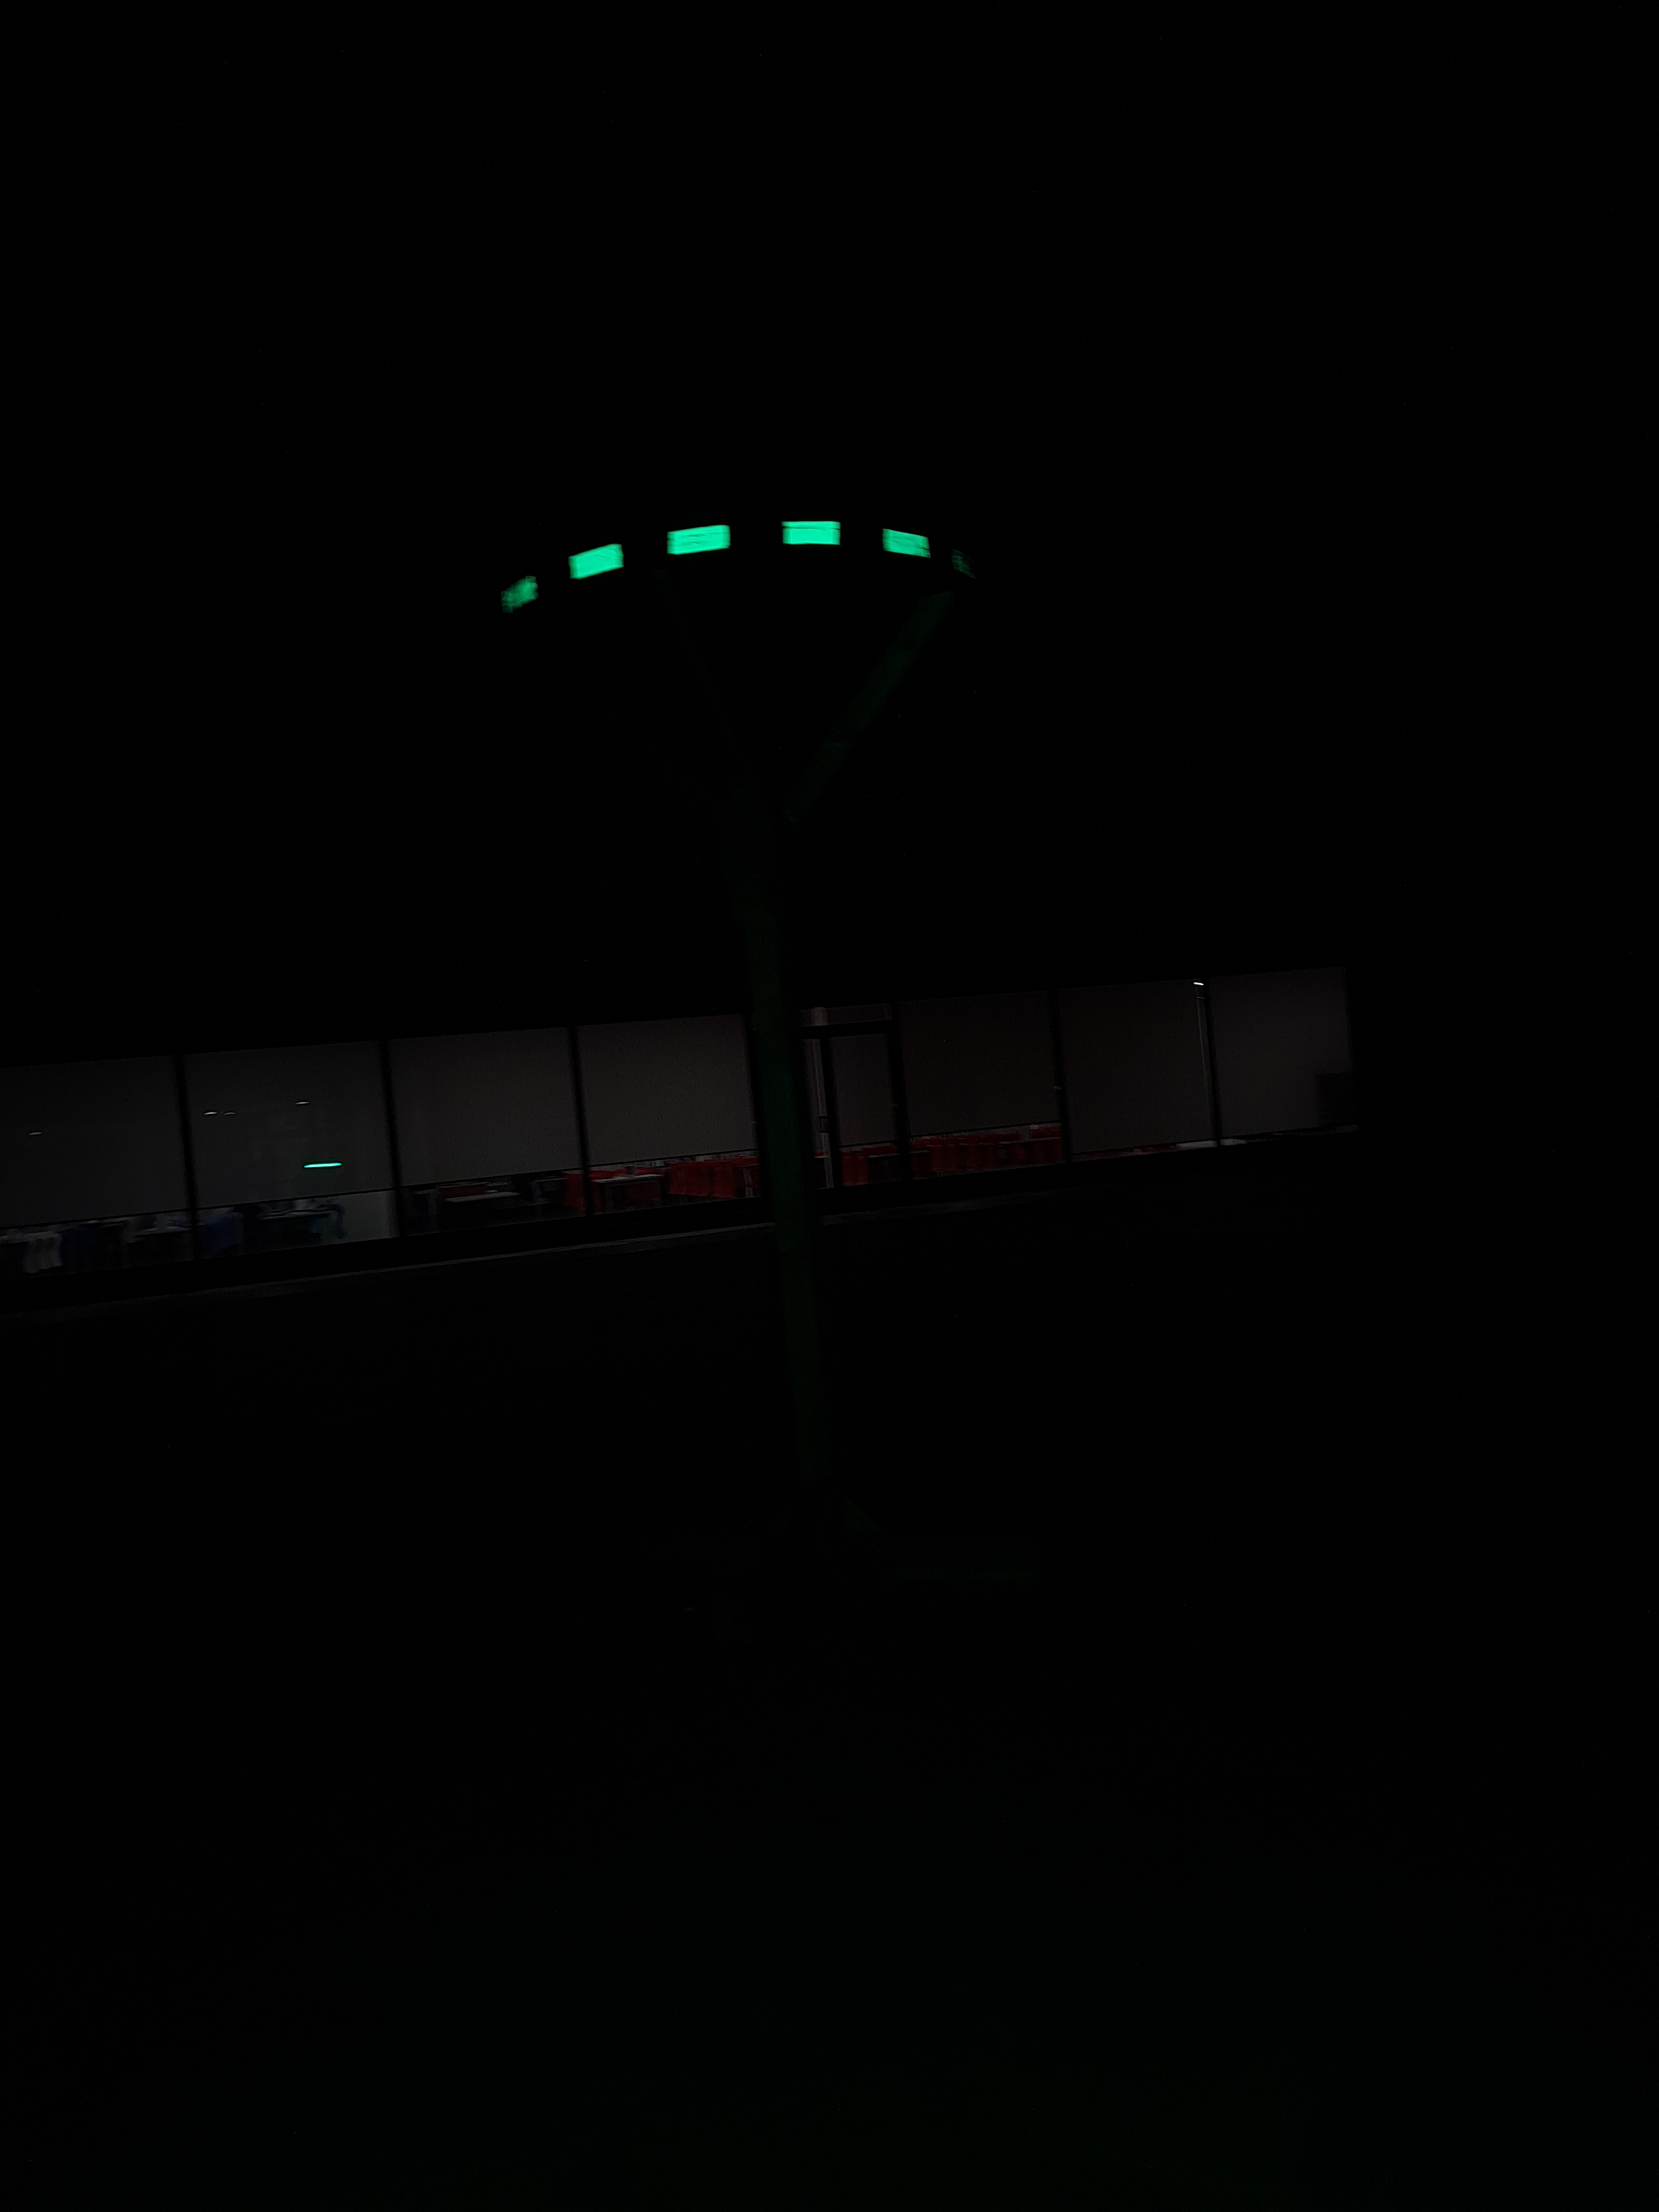hoop: (493, 509, 943, 631)
